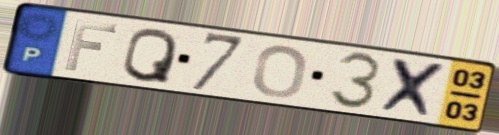3: (326, 50, 384, 112)
7: (188, 31, 249, 93)
F: (62, 18, 122, 73)
O: (250, 43, 311, 100)
Q: (119, 27, 180, 86)
X: (376, 55, 452, 121)
